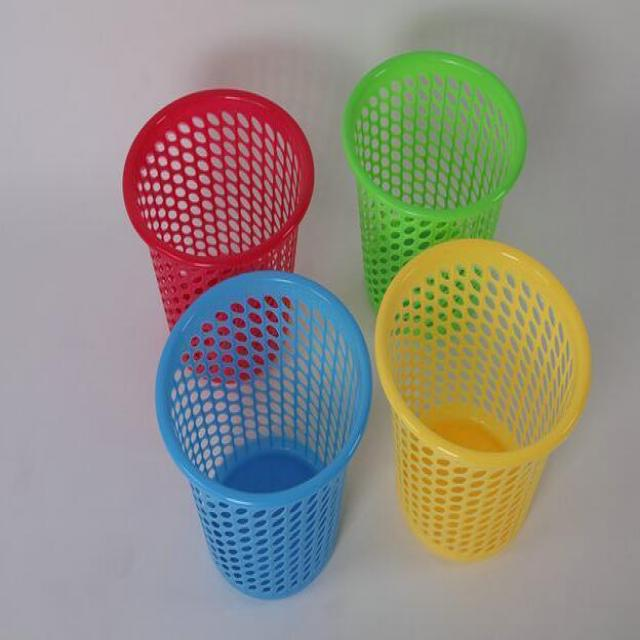Dustbin: (153, 267, 378, 608), (372, 233, 594, 569), (119, 82, 319, 390), (339, 42, 531, 340)
